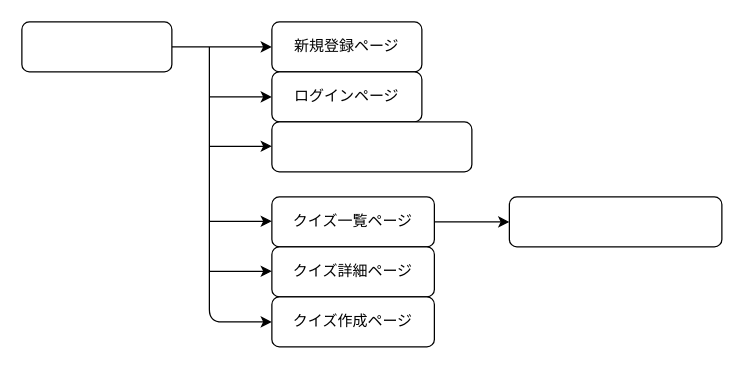
This 744x369 diagram has some shape labels left out. The shapes that lost their labels are listed below. From the top down, each one's centre as x and y in pixels, then its label:
pixel 96 46: トップページ
pixel 371 146: ユーザー情報編集ページ
pixel 615 221: seedsバックアップページ
